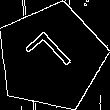L_SE: (22, 28, 80, 86)
